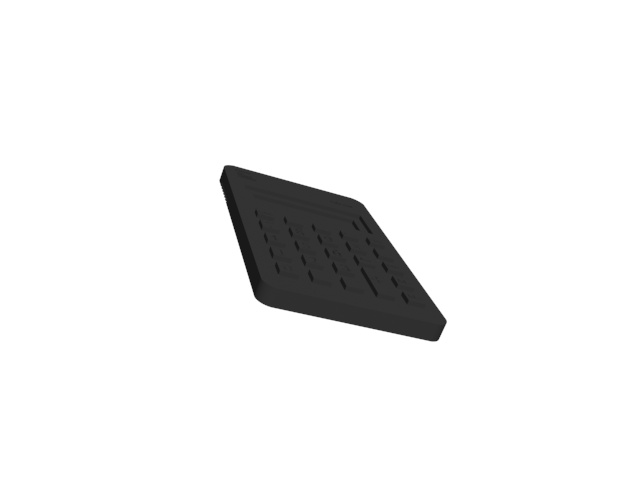calculator: (217, 161, 448, 344)
